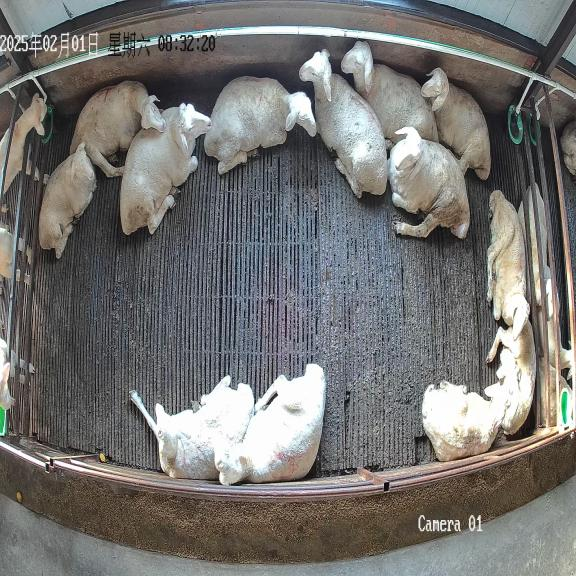lying: (215, 364, 325, 485), (299, 49, 387, 198), (130, 376, 254, 480), (120, 103, 211, 235), (204, 76, 317, 174), (422, 349, 520, 461), (342, 40, 439, 144), (388, 127, 470, 238), (70, 80, 163, 176), (421, 68, 490, 180), (38, 144, 97, 258), (486, 190, 530, 339), (486, 318, 536, 434)
